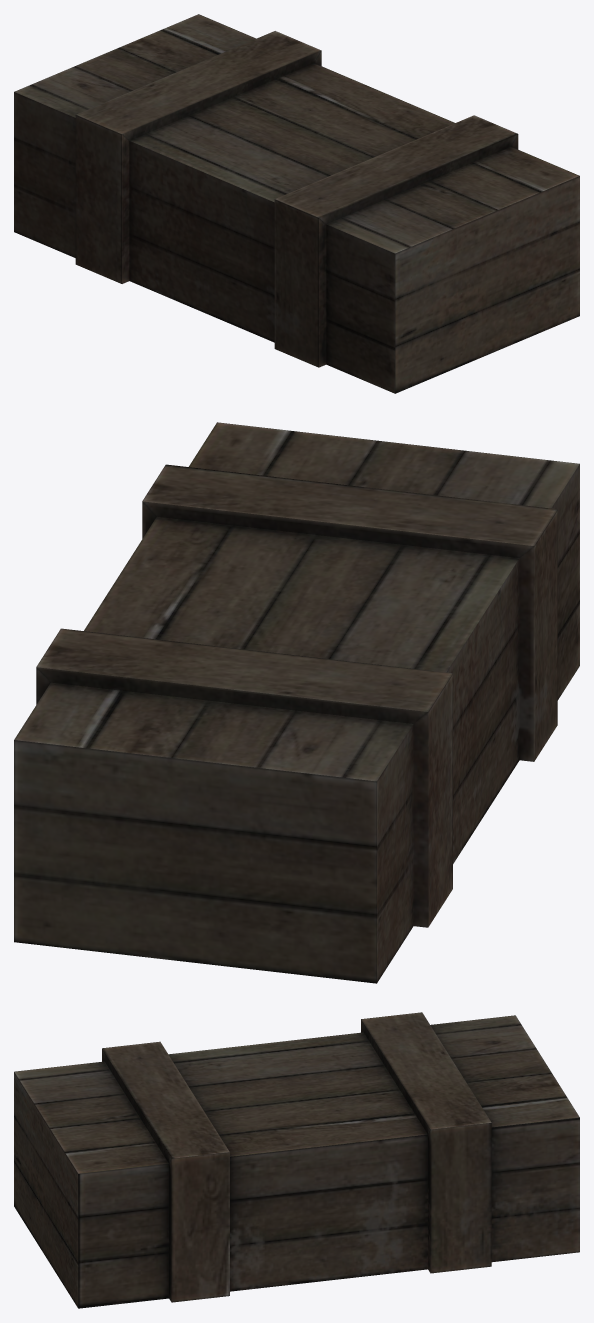
The model's file is crate.FBX.
3 renders of one model, top to bottom at view 1: azimuth 30°, elevation 25°; view 2: azimuth 150°, elevation 25°; view 3: azimuth 270°, elevation 25°, orthographic. The views are drawn at different scales.
Visible parts, largest first — view 1: amobox_Cube_001; view 2: amobox_Cube_001; view 3: amobox_Cube_001.
Boxes of the visible parts, box(x1,y1,x2,y2) form: amobox_Cube_001: box(14, 14, 579, 393); amobox_Cube_001: box(14, 422, 579, 983); amobox_Cube_001: box(14, 1012, 579, 1308).
Size of the model in its own units: 4.06 by 1.71 by 6.12.
